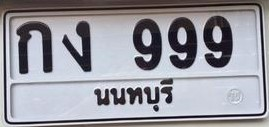txt01: (15, 20, 55, 76)
txt05: (59, 20, 93, 73)
